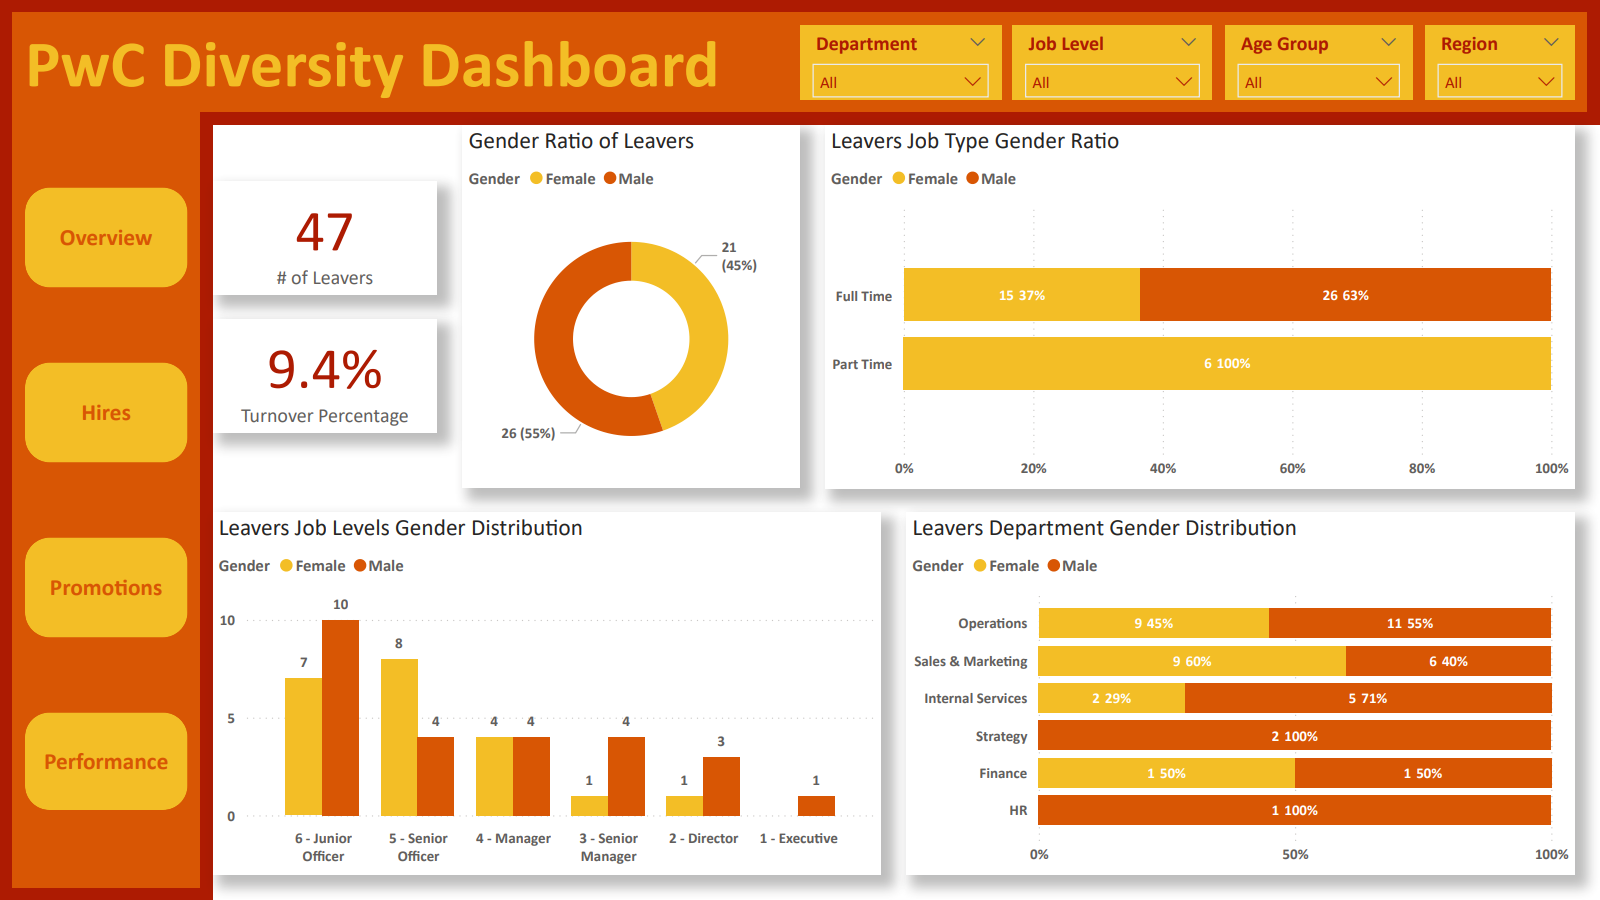

The dashboard page shown, as its layout file describes it:
{"tool":"powerbi","page":{"name":"Turnovers","canvas":[1280,720],"ordinal":2},"visuals":[{"type":"shape","box":[0,0,1280,100],"z":0},{"type":"shape","box":[10,10,1260,80],"z":1000},{"type":"slicer","fields":{"Values":["Pharma Group AG.Department @01.07.2020"]},"box":[640,20,160.5,60.4],"z":2000},{"type":"slicer","fields":{"Values":["Pharma Group AG.Job Level after FY20 promotions"]},"box":[810,20,160,60.4],"z":3000},{"type":"slicer","fields":{"Values":["Pharma Group AG.Age group"]},"box":[980,20,150,60.4],"z":4000},{"type":"slicer","fields":{"Values":["Pharma Group AG.Region group: nationality 1"]},"box":[1140,20,120,60.4],"z":5000},{"type":"shape","box":[0,99,170,621],"z":6000},{"type":"shape","box":[10,88,150,622],"z":7000},{"type":"actionButton","box":[20,150,130,80],"z":8000},{"type":"actionButton","box":[20,290,130,80],"z":9000},{"type":"actionButton","box":[20,430,130,80],"z":10000},{"type":"actionButton","box":[20,570,130,78],"z":11000},{"type":"card","fields":{"Values":["Pharma Group AG.Number of Turnovers"]},"box":[170,145,180,90.6],"z":12000},{"type":"donutChart","title":"Gender Ratio of Leavers","fields":{"Y":["Pharma Group AG.Gender Turnovers"],"Series":["Pharma Group AG.Gender"]},"box":[370,100,270,290],"z":13000},{"type":"hundredPercentStackedBarChart","title":"Leavers Job Type Gender Ratio","fields":{"Series":["Pharma Group AG.Gender"],"Category":["Pharma Group AG.Time type"],"Y":["Pharma Group AG.Time Type Turnovers"]},"box":[660,100,600,290.9],"z":14000},{"type":"clusteredColumnChart","title":"Leavers Job Levels Gender Distribution","fields":{"Series":["Pharma Group AG.Gender"],"Y":["Pharma Group AG.Job Level Turnovers"],"Category":["Pharma Group AG.Job Level after FY20 promotions"]},"box":[170,410,535,290],"z":15000},{"type":"hundredPercentStackedBarChart","title":"Leavers Department Gender Distribution","fields":{"Category":["Pharma Group AG.Department @01.07.2020"],"Y":["Pharma Group AG.Department Turnovers"],"Series":["Pharma Group AG.Gender"]},"box":[725,410,535,290],"z":16000},{"type":"card","fields":{"Values":["Pharma Group AG.Percentage of Leavers"]},"box":[170,255,180,90.6],"z":17000}]}

Visuals, with their boxes in screenshot pixels (x1, y1, x2, y2), scaled from the page's 1280x720 canvas onto the 1600x900 screenshot:
shape: [0,0,1599,125]
shape: [12,12,1588,112]
slicer - Pharma Group AG.Department @01.07.2020: [800,25,1001,100]
slicer - Pharma Group AG.Job Level after FY20 promotions: [1012,25,1212,100]
slicer - Pharma Group AG.Age group: [1225,25,1412,100]
slicer - Pharma Group AG.Region group: nationality 1: [1425,25,1575,100]
shape: [0,124,212,899]
shape: [12,110,200,888]
actionButton: [25,188,188,288]
actionButton: [25,362,188,462]
actionButton: [25,538,188,638]
actionButton: [25,712,188,810]
card - Pharma Group AG.Number of Turnovers: [212,181,438,294]
"Gender Ratio of Leavers" donutChart: [462,125,800,488]
"Leavers Job Type Gender Ratio" hundredPercentStackedBarChart: [825,125,1575,489]
"Leavers Job Levels Gender Distribution" clusteredColumnChart: [212,512,881,875]
"Leavers Department Gender Distribution" hundredPercentStackedBarChart: [906,512,1575,875]
card - Pharma Group AG.Percentage of Leavers: [212,319,438,432]
